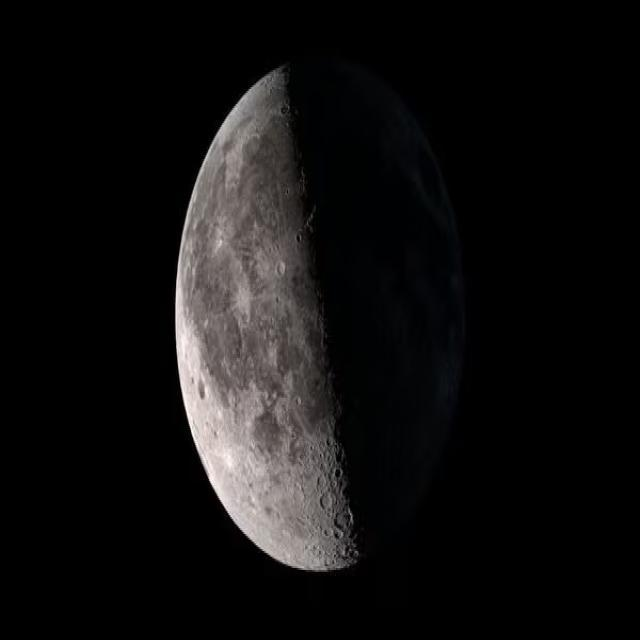moon: (167, 48, 488, 594)
